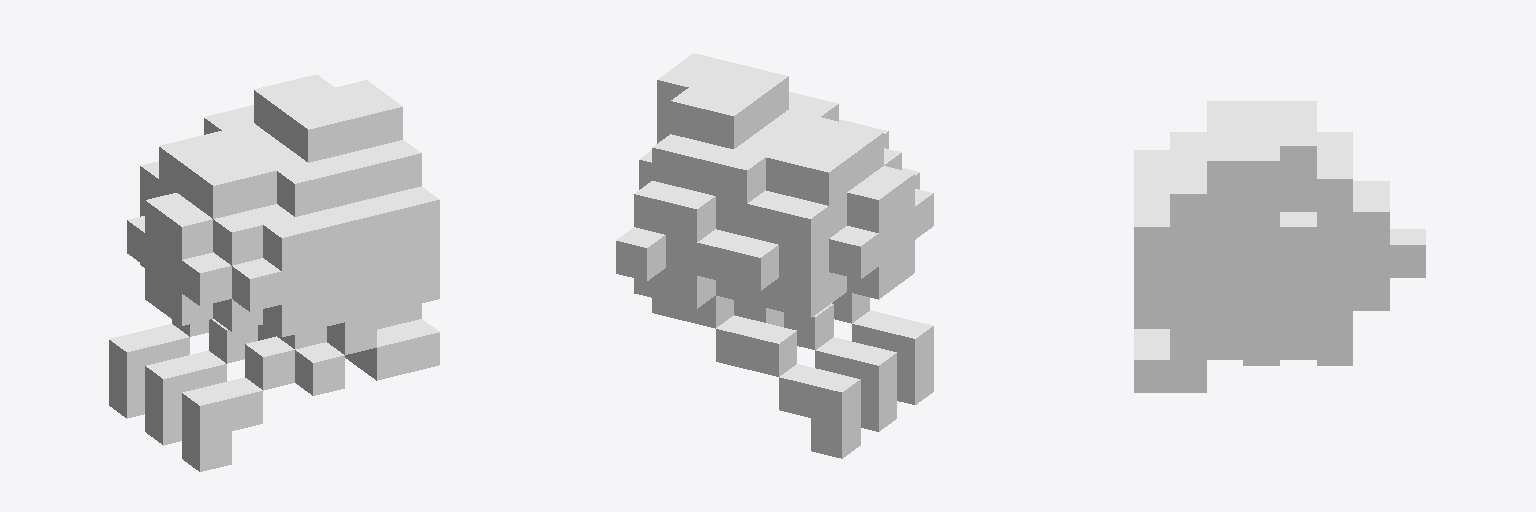
The model's file is SpaceInvader3.2.obj.
3 views of the same model, side by side, from view 1: azimuth 30°, elevation 25°; view 2: azimuth 150°, elevation 25°; view 3: azimuth 270°, elevation 25° (orthographic).
Parts seen in each view (by area): view 1: object 1; view 2: object 1; view 3: object 1.
Part boxes in pixels (x1,y1,x2,y2): object 1: (109,74,439,471); object 1: (616,53,933,458); object 1: (1134,101,1425,392).
Bounding box in the file's own units: 0.7 × 0.9 × 0.8.